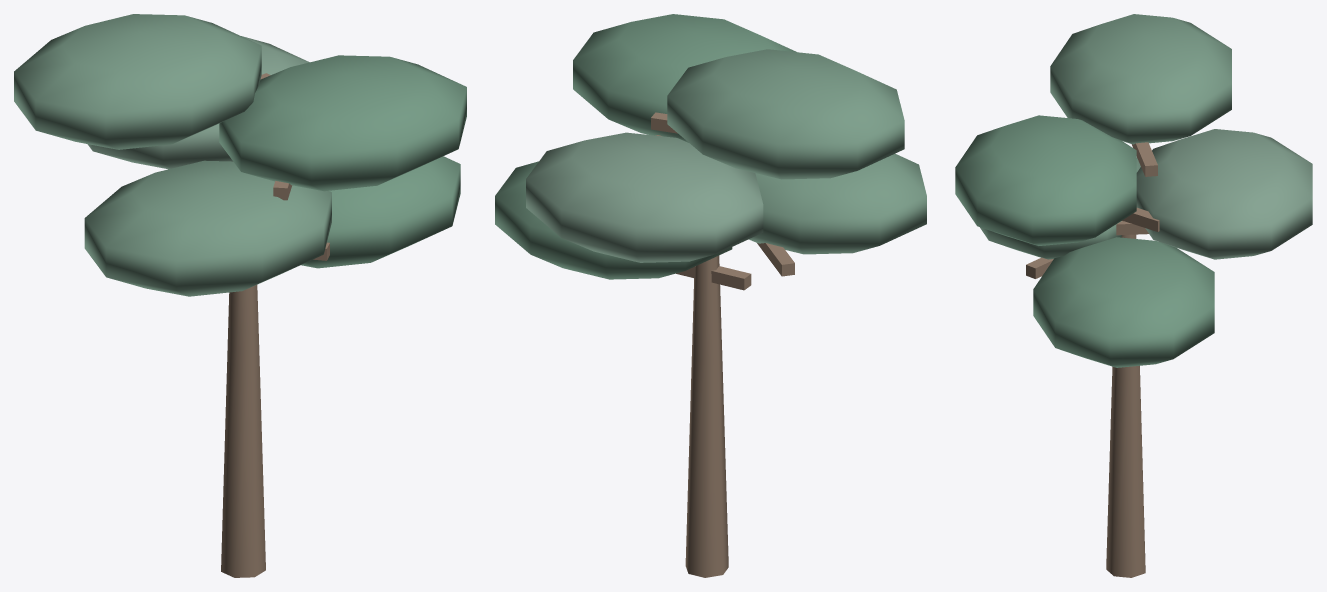
3 views of the same model, side by side, from view 1: azimuth 30°, elevation 25°; view 2: azimuth 150°, elevation 25°; view 3: azimuth 270°, elevation 25° (orthographic). The views are drawn at different scales.
Parts seen in each view (by area): view 1: Visual; view 2: Visual; view 3: Visual.
Boxes of the visible parts, x1,y1,x2,y2 form: Visual: (14, 14, 466, 577); Visual: (495, 14, 926, 577); Visual: (955, 14, 1312, 577).
Size of the model in its own units: 10.75 by 13.65 by 8.98.
